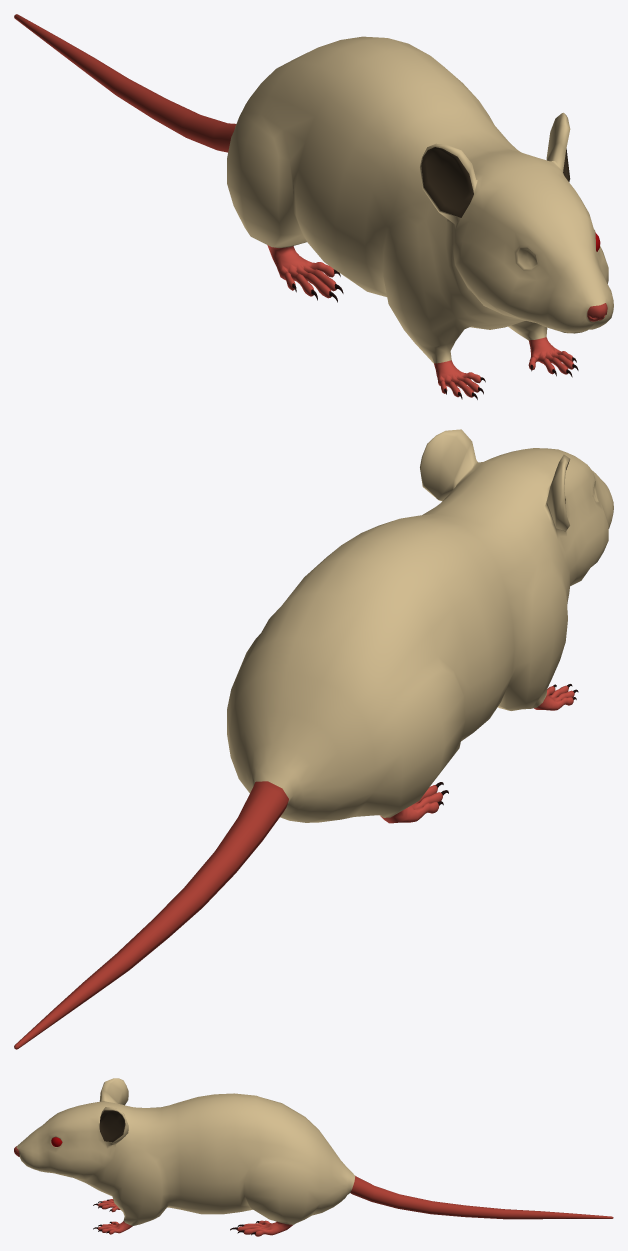
Rendered from mouse.obj.
3 renders of one model, top to bottom at view 1: azimuth 30°, elevation 25°; view 2: azimuth 150°, elevation 25°; view 3: azimuth 270°, elevation 25°, orthographic. The views are drawn at different scales.
Parts seen in each view (by area): view 1: mouse; view 2: mouse; view 3: mouse.
Boxes of the visible parts, <box> form: mouse: <box>14,14,613,399</box>; mouse: <box>14,429,613,1049</box>; mouse: <box>14,1078,613,1236</box>.
Size of the model in its own units: 0.0349 by 0.0404 by 0.1744.
